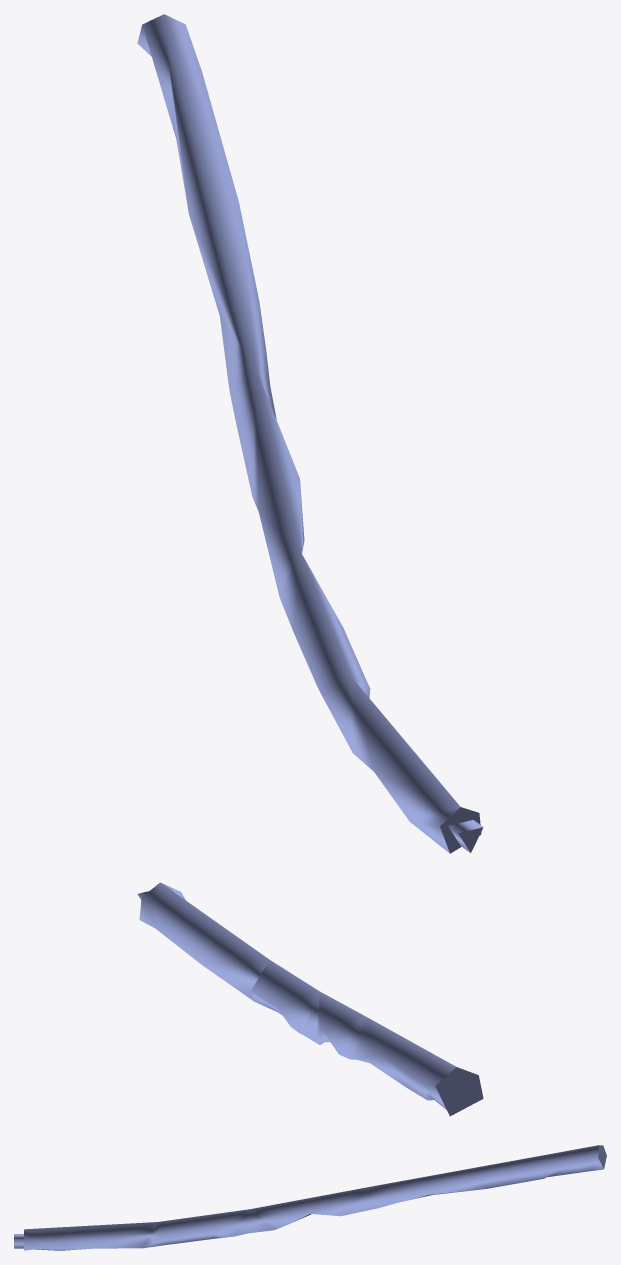
Rendered from Copie de Tige marteaux-SEB^Copie de Ass Marteau 1_Horloge Comtoise Verge - Sonnerie.obj.
3 views of the same model, one above another, from view 1: azimuth 30°, elevation 25°; view 2: azimuth 210°, elevation 25°; view 3: azimuth 270°, elevation 25° (orthographic). The views are drawn at different scales.
Parts seen in each view (by area): view 1: Face_1; view 2: Face_1, Face_3; view 3: Face_1.
Part boxes in pixels (<box>): Face_1: <box>137,14,460,853</box>; Face_1: <box>139,882,456,1109</box>; Face_3: <box>435,1067,483,1116</box>; Face_1: <box>24,1145,603,1250</box>.
Size of the model in its own units: 0.0163 by 0.017 by 0.0525.
